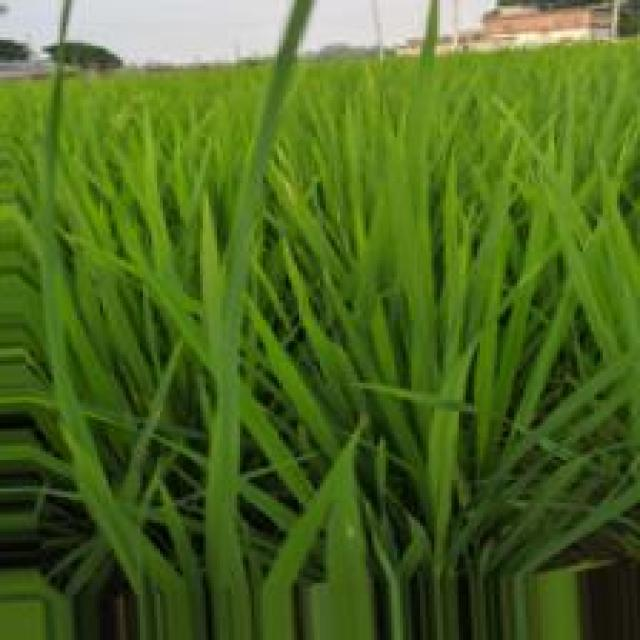HealthyLeaf: (398, 217, 429, 304), (208, 464, 236, 554), (288, 380, 328, 438), (430, 420, 455, 492)
